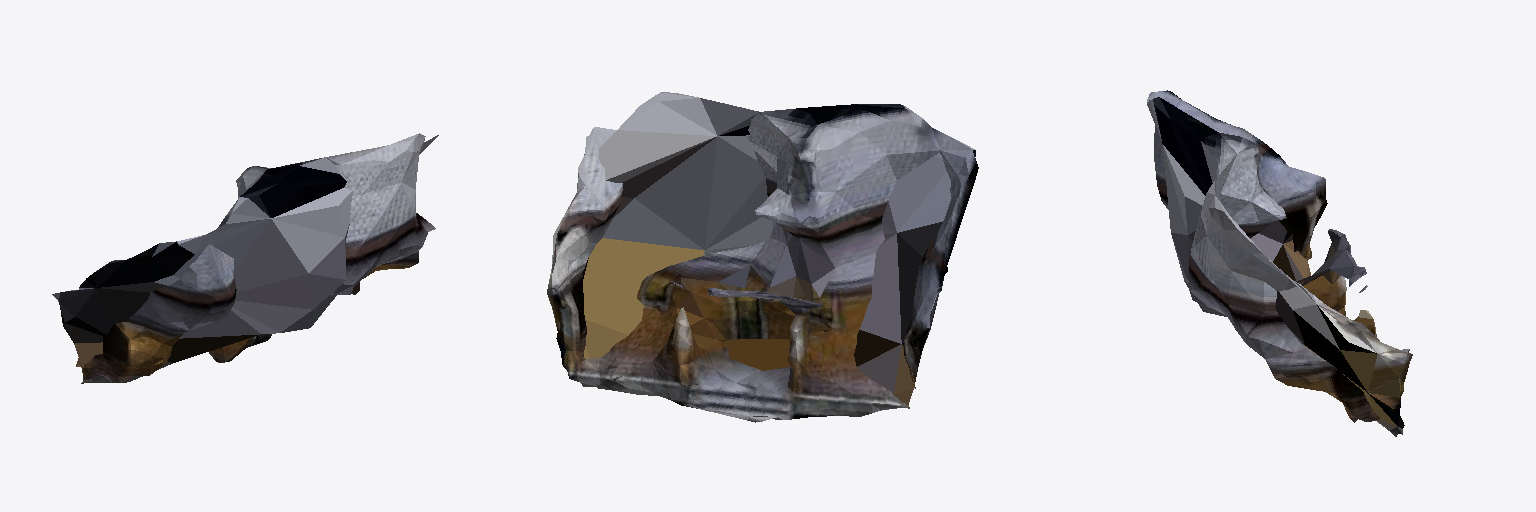
The picture shows the model from 3 angles: view 1: azimuth 30°, elevation 25°; view 2: azimuth 150°, elevation 25°; view 3: azimuth 270°, elevation 25°; orthographic projection.
Size of the model in its own units: 21.33 by 13.76 by 13.55.
1 materials, 1 textured.